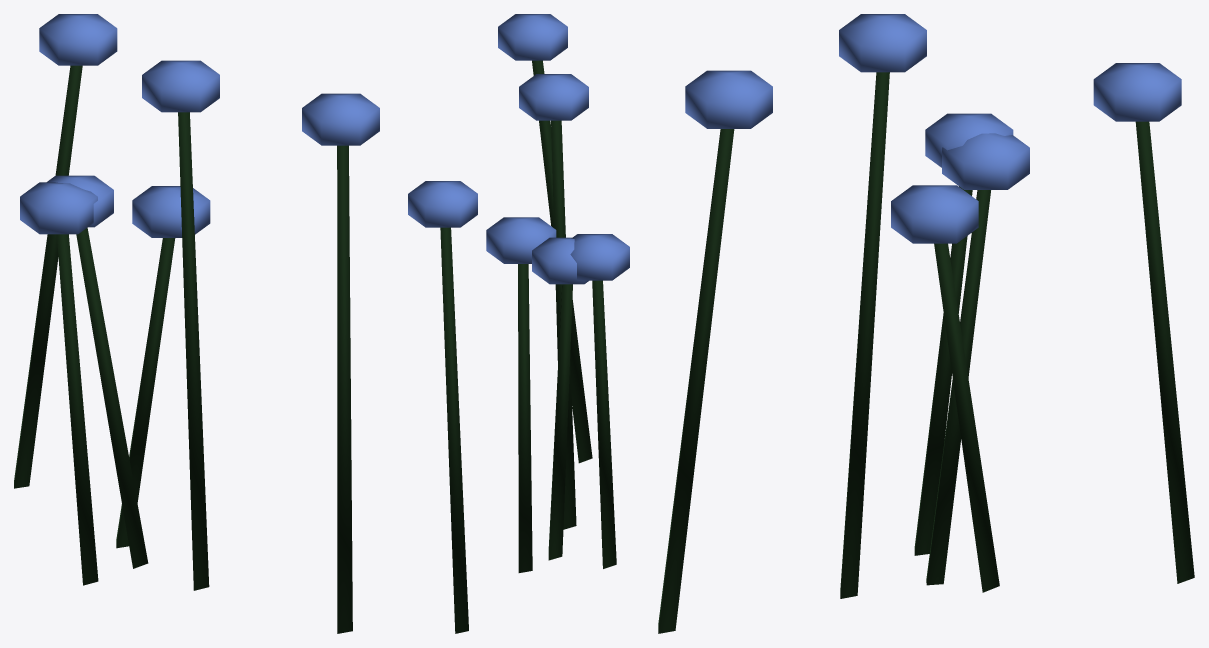
Rendered from Flowers_Blue.fbx.
The picture shows the model from 3 angles, left to right: view 1: azimuth 30°, elevation 25°; view 2: azimuth 150°, elevation 25°; view 3: azimuth 270°, elevation 25°; orthographic projection. The views are drawn at different scales.
Visible parts, largest first — view 1: Flowers_Blue; view 2: Flowers_Blue; view 3: Flowers_Blue.
Part boxes in pixels (box(x1,y1,x2,y2)): Flowers_Blue: box(14, 14, 379, 633); Flowers_Blue: box(408, 14, 629, 633); Flowers_Blue: box(658, 14, 1194, 633).
Size of the model in its own units: 0.2101 by 0.441 by 0.3705.
